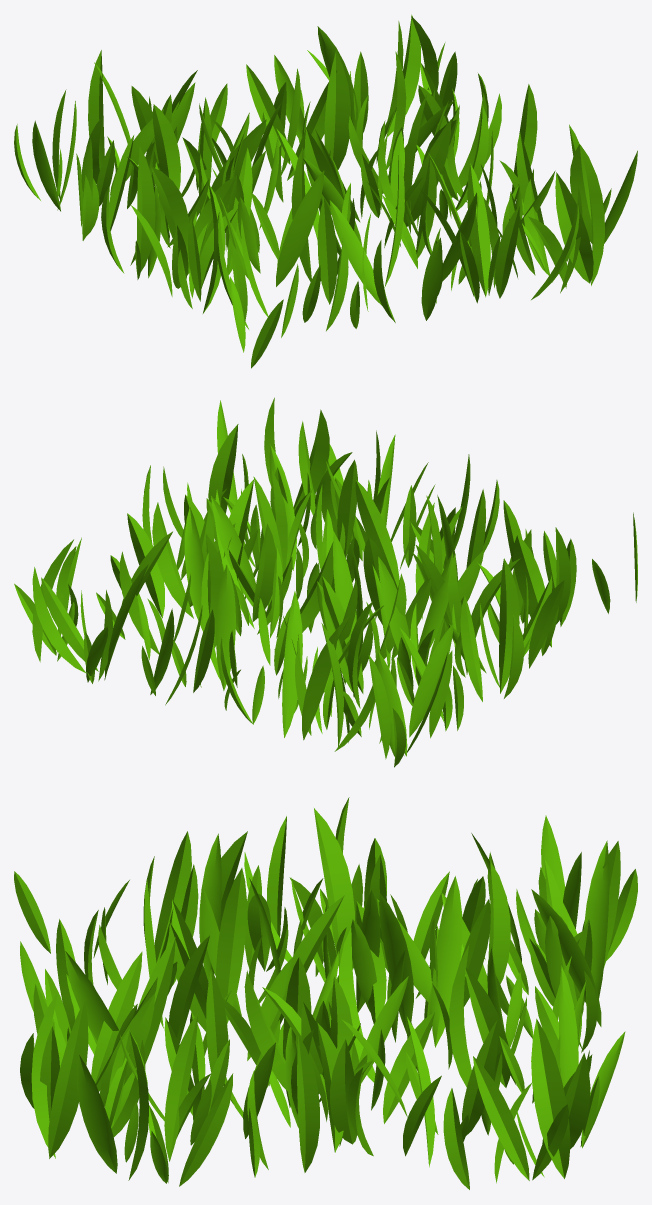
The model's file is grass_bigger_area.fbx.
The picture shows the model from 3 angles, top to bottom: view 1: azimuth 30°, elevation 25°; view 2: azimuth 150°, elevation 25°; view 3: azimuth 270°, elevation 25°; orthographic projection. The views are drawn at different scales.
Visible parts, largest first — view 1: Cloner_1; view 2: Cloner_1; view 3: Cloner_1.
Part boxes in pixels (x1,y1,x2,y2): Cloner_1: (14,14,637,368); Cloner_1: (14,397,637,767); Cloner_1: (14,797,637,1189).
Size of the model in its own units: 436 by 132 by 445.
